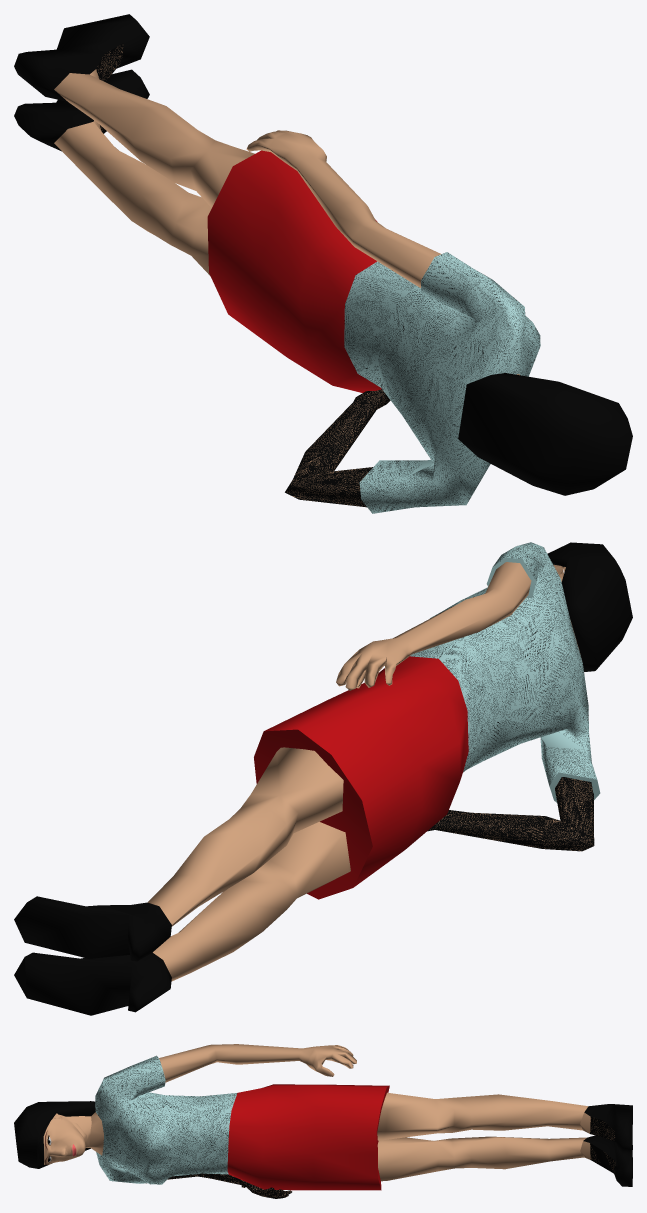
The model's file is woman_1.dae.
The picture shows the model from 3 angles, top to bottom: view 1: azimuth 30°, elevation 25°; view 2: azimuth 150°, elevation 25°; view 3: azimuth 270°, elevation 25°; orthographic projection. The views are drawn at different scales.
Visible parts, largest first — view 1: coords_ME_ID3_MA_Color_H10, coords_ME_ID51_MA_Color_B24, coords_ME_ID59_MA_Color_009, coords_ME_ID133_MA_Shape_006, coords_ME_ID33_MA_Shape_006, coords_ME_ID3_MA_Color_009, coords_ME_ID21_MA_Shape_006, coords_ME_ID127_MA_Color_009, coords_ME_ID13_MA_Color_009, coords_ME_ID27_MA_Color_009, coords_ME_ID13_MA_Shape_006; view 2: coords_ME_ID51_MA_Color_B24, coords_ME_ID3_MA_Color_H10, coords_ME_ID133_MA_Shape_006, coords_ME_ID33_MA_Shape_006, coords_ME_ID127_MA_Color_009, coords_ME_ID27_MA_Color_009, coords_ME_ID21_MA_Shape_006, coords_ME_ID59_MA_Color_009, coords_ME_ID3_MA_Color_009, coords_ME_ID13_MA_Color_009, coords_ME_ID121_MA_Color_B24, coords_ME_ID13_MA_Shape_006; view 3: coords_ME_ID51_MA_Color_B24, coords_ME_ID3_MA_Color_H10, coords_ME_ID133_MA_Shape_006, coords_ME_ID33_MA_Shape_006, coords_ME_ID21_MA_Shape_006, coords_ME_ID3_MA_Color_009, coords_ME_ID59_MA_Color_009, coords_ME_ID45_MA_Shape_006, coords_ME_ID127_MA_Color_009, coords_ME_ID27_MA_Color_009, coords_ME_ID13_MA_Color_009, coords_ME_ID39_MA_Shape_006 (+3 smaller).
Part boxes in pixels (left/top/right/bottom): coords_ME_ID3_MA_Color_H10: left=344, top=252, right=540, bottom=513; coords_ME_ID51_MA_Color_B24: left=207, top=150, right=381, bottom=392; coords_ME_ID59_MA_Color_009: left=458, top=373, right=632, bottom=495; coords_ME_ID133_MA_Shape_006: left=54, top=73, right=254, bottom=207; coords_ME_ID33_MA_Shape_006: left=54, top=122, right=211, bottom=275; coords_ME_ID3_MA_Color_009: left=344, top=253, right=539, bottom=511; coords_ME_ID21_MA_Shape_006: left=246, top=130, right=441, bottom=287; coords_ME_ID127_MA_Color_009: left=14, top=14, right=149, bottom=101; coords_ME_ID13_MA_Color_009: left=285, top=389, right=390, bottom=507; coords_ME_ID27_MA_Color_009: left=14, top=69, right=149, bottom=151; coords_ME_ID13_MA_Shape_006: left=286, top=390, right=388, bottom=506; coords_ME_ID51_MA_Color_B24: left=264, top=656, right=468, bottom=887; coords_ME_ID3_MA_Color_H10: left=410, top=542, right=597, bottom=785; coords_ME_ID133_MA_Shape_006: left=147, top=747, right=343, bottom=926; coords_ME_ID33_MA_Shape_006: left=153, top=821, right=350, bottom=981; coords_ME_ID127_MA_Color_009: left=14, top=896, right=171, bottom=961; coords_ME_ID27_MA_Color_009: left=24, top=952, right=171, bottom=1015; coords_ME_ID21_MA_Shape_006: left=336, top=562, right=531, bottom=690; coords_ME_ID59_MA_Color_009: left=547, top=542, right=632, bottom=671; coords_ME_ID3_MA_Color_009: left=414, top=543, right=596, bottom=785; coords_ME_ID13_MA_Color_009: left=427, top=777, right=594, bottom=851; coords_ME_ID121_MA_Color_B24: left=254, top=729, right=372, bottom=899; coords_ME_ID13_MA_Shape_006: left=430, top=778, right=594, bottom=851; coords_ME_ID51_MA_Color_B24: left=227, top=1084, right=389, bottom=1190; coords_ME_ID3_MA_Color_H10: left=95, top=1056, right=236, bottom=1184; coords_ME_ID133_MA_Shape_006: left=377, top=1092, right=587, bottom=1140; coords_ME_ID33_MA_Shape_006: left=377, top=1136, right=586, bottom=1181; coords_ME_ID21_MA_Shape_006: left=159, top=1044, right=356, bottom=1082; coords_ME_ID3_MA_Color_009: left=95, top=1057, right=237, bottom=1184; coords_ME_ID59_MA_Color_009: left=14, top=1101, right=95, bottom=1168; coords_ME_ID45_MA_Shape_006: left=45, top=1116, right=86, bottom=1164; coords_ME_ID127_MA_Color_009: left=584, top=1104, right=632, bottom=1154; coords_ME_ID27_MA_Color_009: left=583, top=1135, right=632, bottom=1186; coords_ME_ID13_MA_Color_009: left=167, top=1173, right=291, bottom=1198; coords_ME_ID39_MA_Shape_006: left=53, top=1112, right=103, bottom=1155.
Size of the model in its own units: 4.64 by 5.14 by 18.9.
